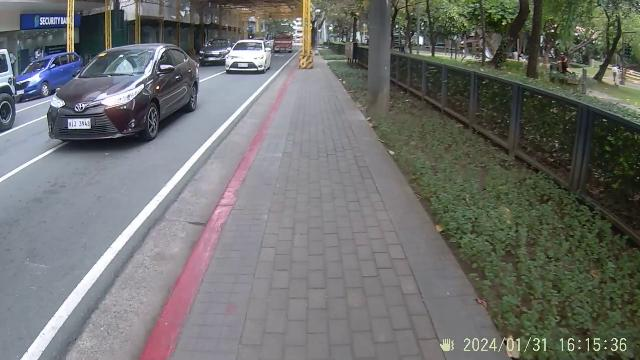utility_post: (367, 0, 395, 118), (298, 0, 316, 70)
